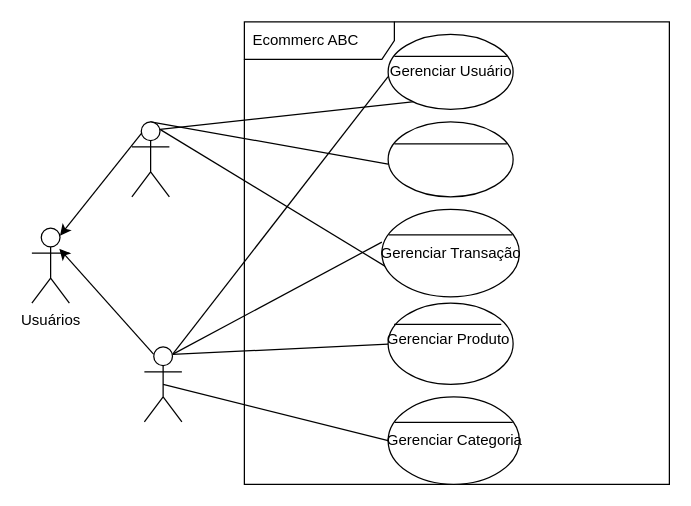
This 691x506 diagram has some shape labels left out. The centre of each missing label's shape, as x and y in pixels:
"Administrador" belongs at point (162, 384).
"Cliente" belongs at point (150, 159).
"Gerenciar carrinho" belongs at point (450, 159).
